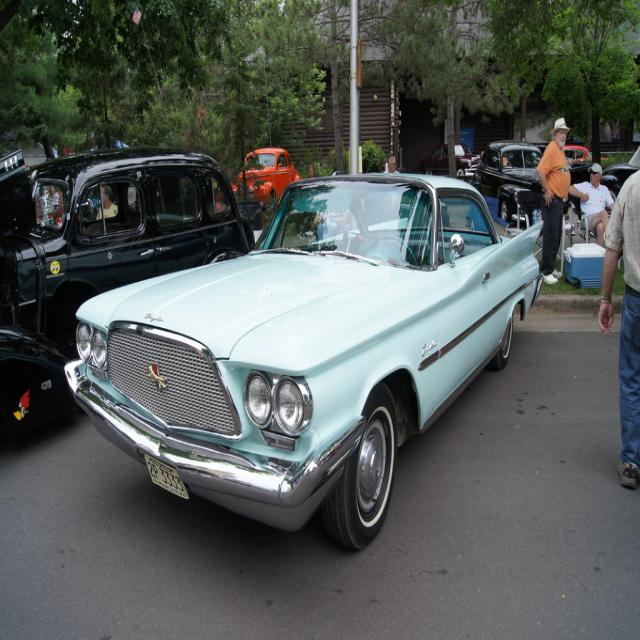car: (64, 174, 555, 551)
